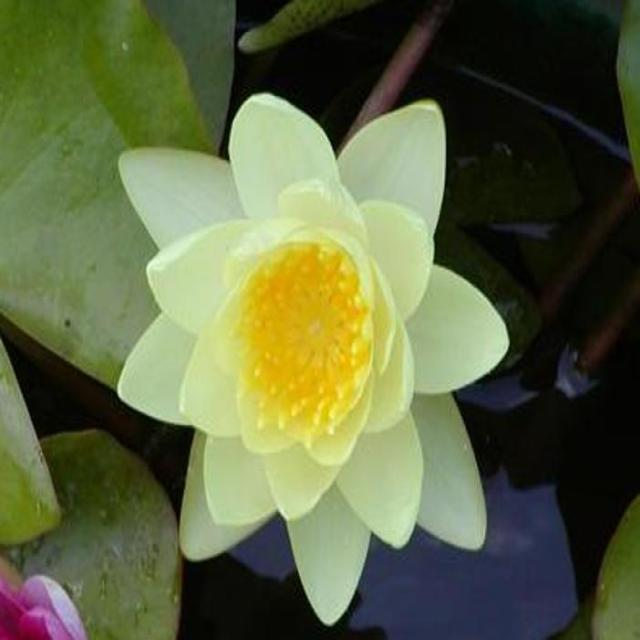water-lily: (85, 60, 518, 640)
